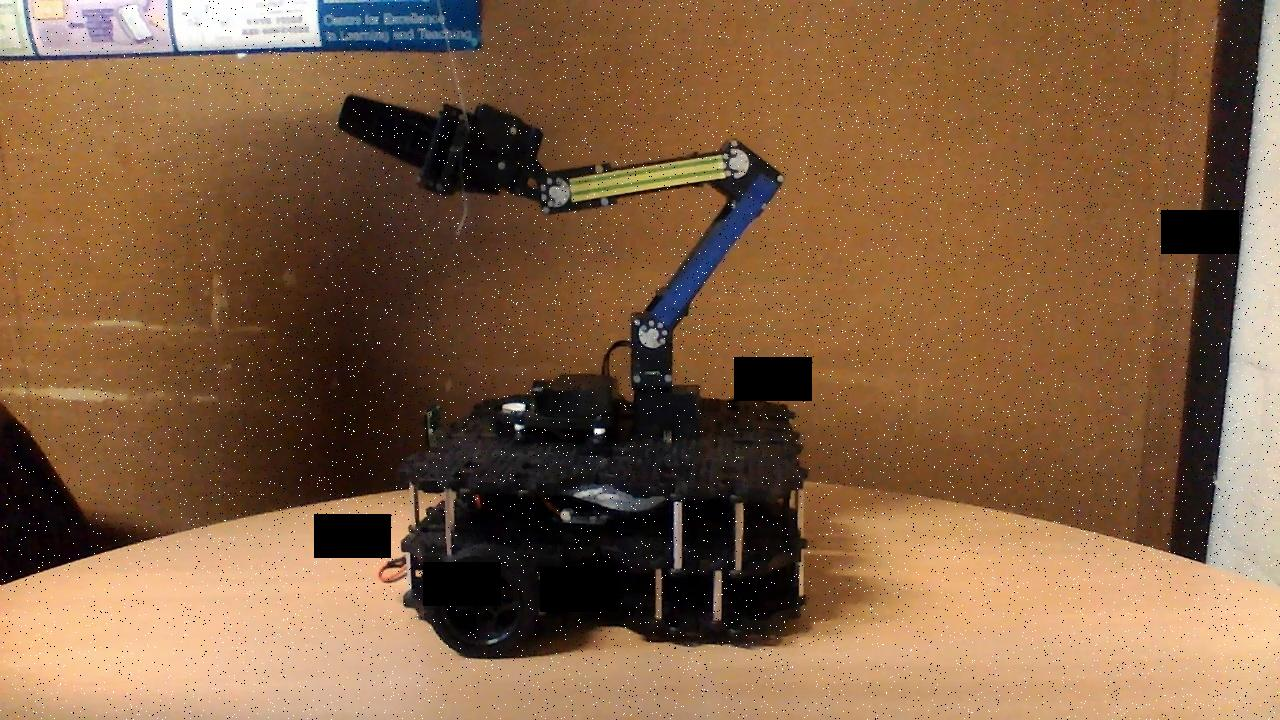Arm: (632, 172, 784, 351)
Hand: (332, 89, 573, 218)
Wrist: (535, 134, 755, 216)
base: (386, 370, 814, 662)
